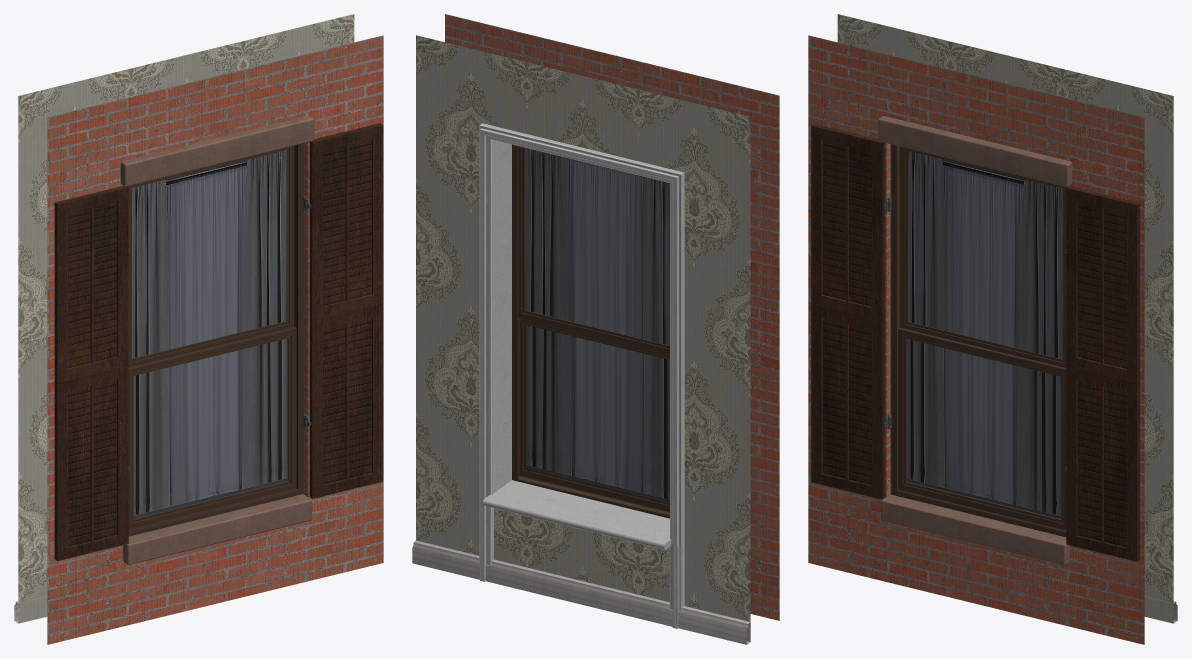
The model's file is House_03_Window_02.fbx.
3 renders of one model, left to right at view 1: azimuth 30°, elevation 25°; view 2: azimuth 150°, elevation 25°; view 3: azimuth 330°, elevation 25°, orthographic.
Visible parts, largest first — view 1: House_03_Window_02_LOD0; view 2: House_03_Window_02_LOD0; view 3: House_03_Window_02_LOD0.
Boxes of the visible parts, <box> form: House_03_Window_02_LOD0: <box>14,14,383,644</box>; House_03_Window_02_LOD0: <box>412,14,779,644</box>; House_03_Window_02_LOD0: <box>808,14,1177,644</box>.
Size of what is drawn, in the model's own units: 200 by 300 by 44.59.
